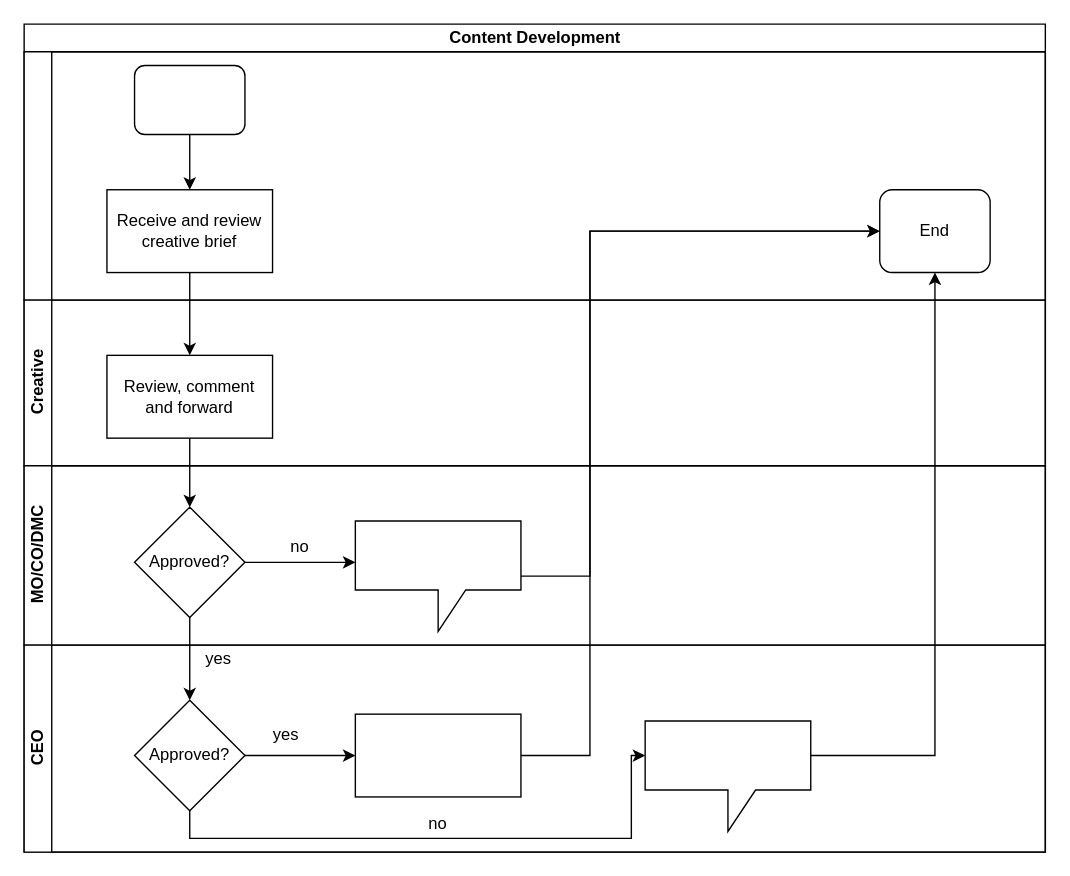
Some shapes in this 1070 by 876 pixel diagram are drawn without their labels. The box of each missing label's shape, as (x1, y1, x2, y2) in pixels:
Give comments and notify creative: (354, 520, 521, 631)
MO/CO: (23, 50, 1045, 300)
Notify DMC: (644, 720, 811, 831)
Notify DMC / MO / CO/ requester: (354, 713, 521, 797)
Start: (133, 64, 245, 135)
